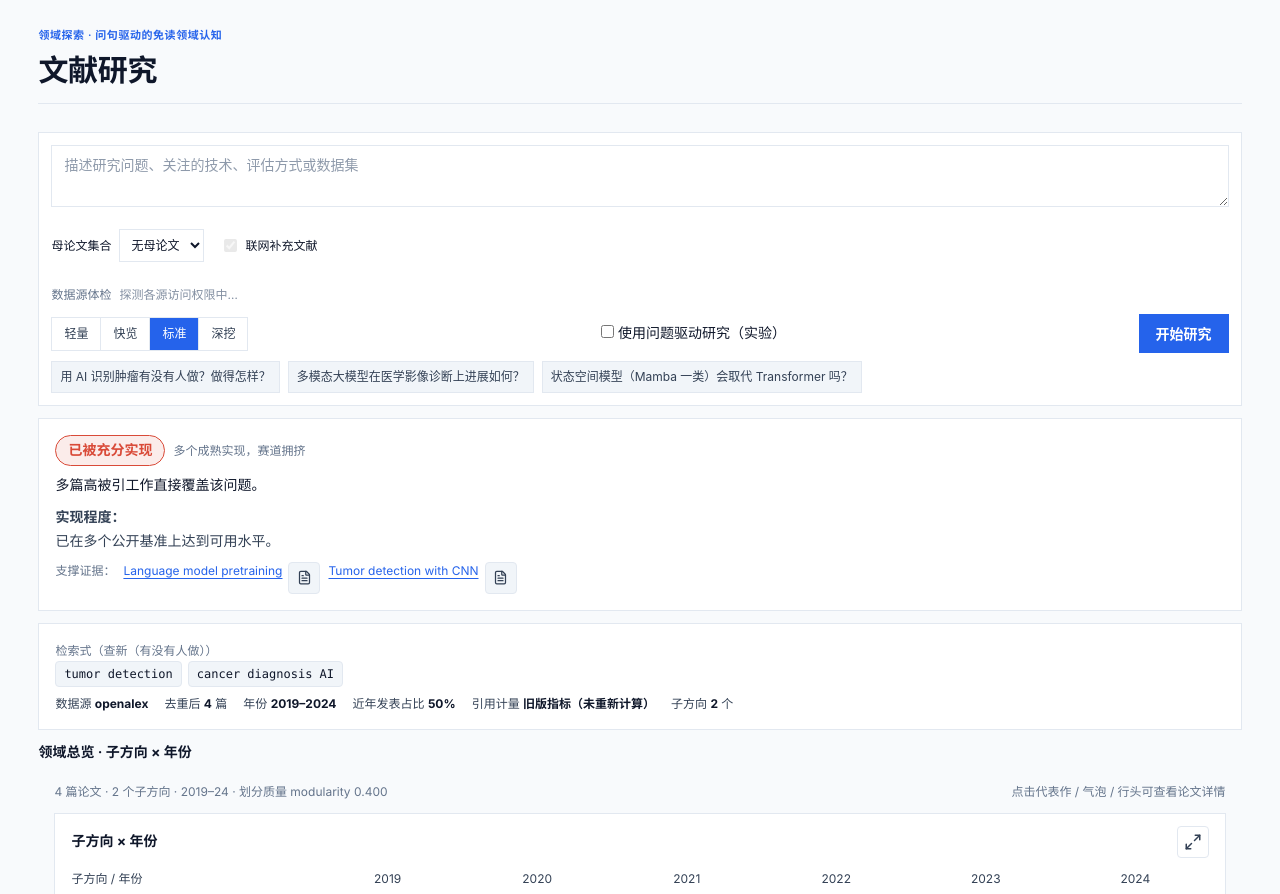
ExplorePage › 历史趋势保留旧版标签，不显示新检验的显著性
Click the button named "查看摘要：Tumor detection with CNN" at [500, 578], box [484,562,516,594]
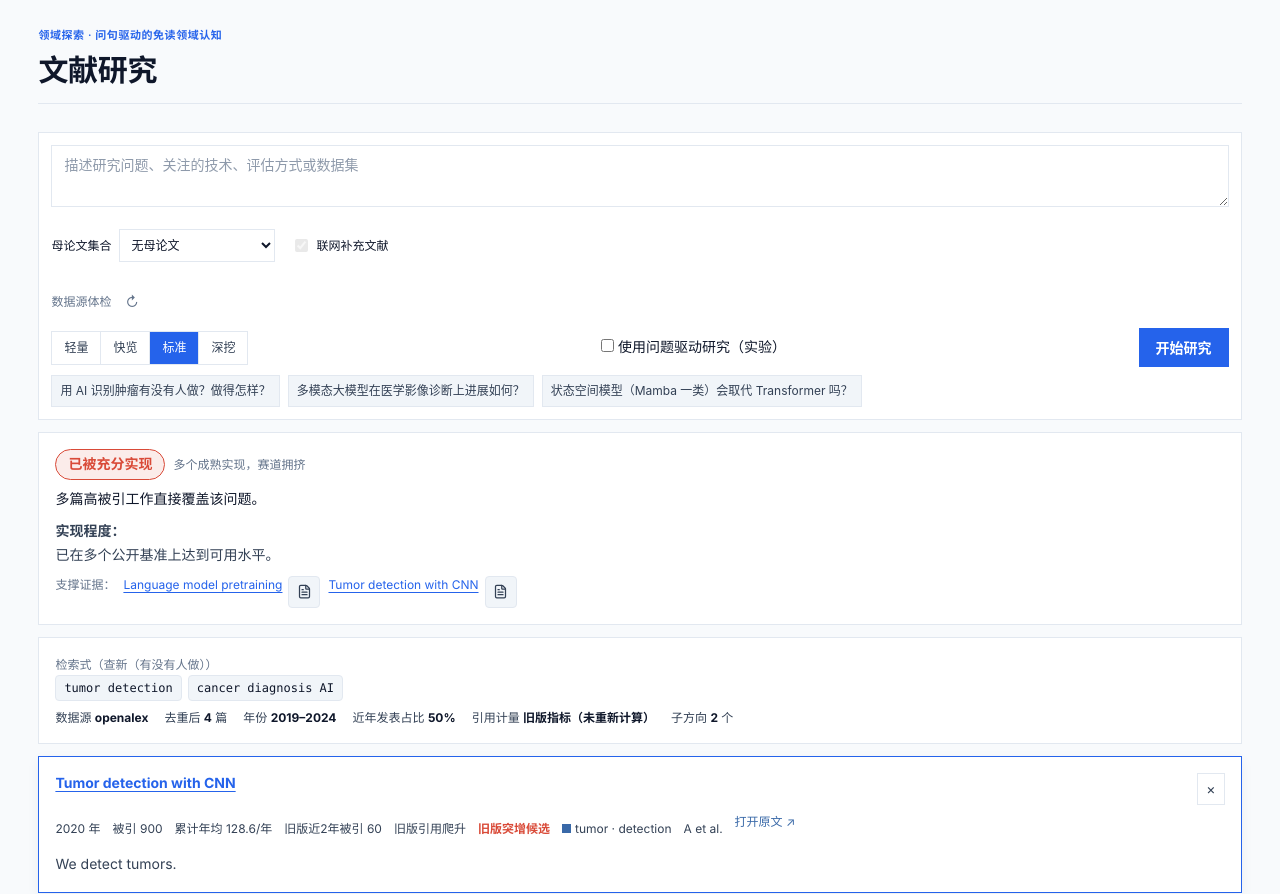
Expected: the text "旧版引用爬升" is shown, [394,820,466,838]
Expected: the text "旧版突增候选" is shown, [478,820,550,838]
Expected: the text "旧版近2年被引 60" is shown, [284,820,382,838]
